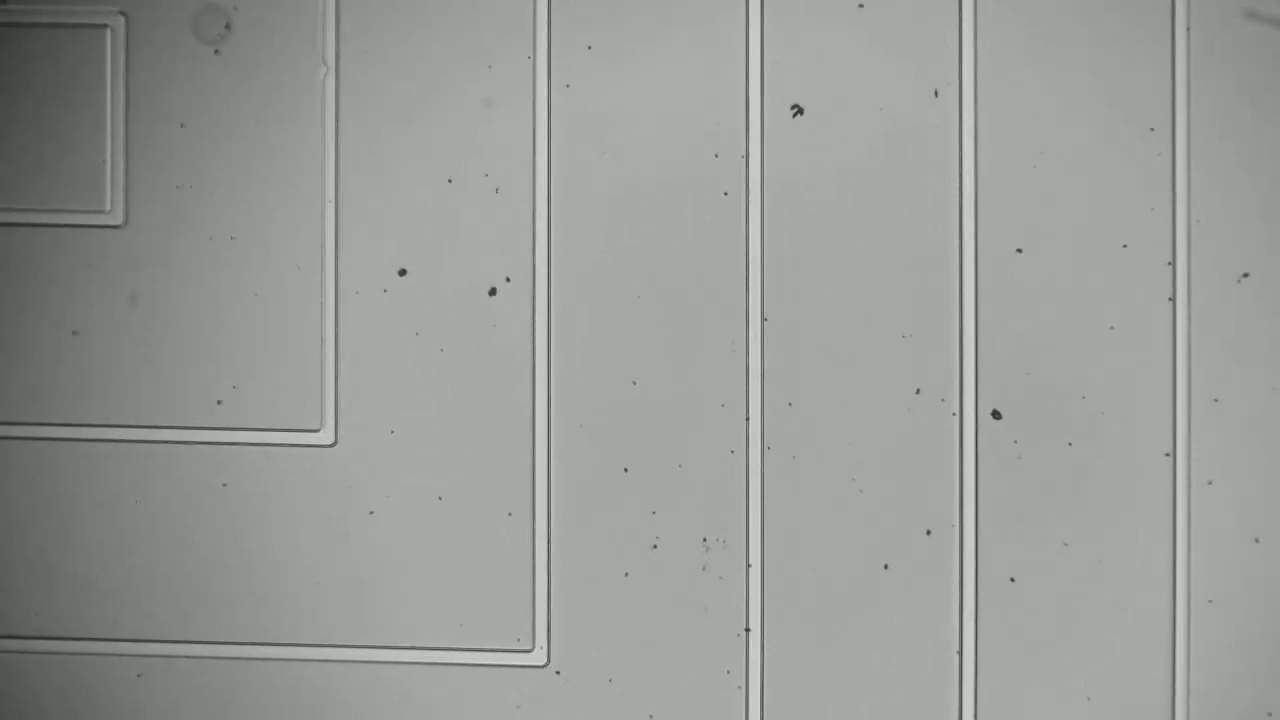edge_bite: (312, 50, 347, 90)
